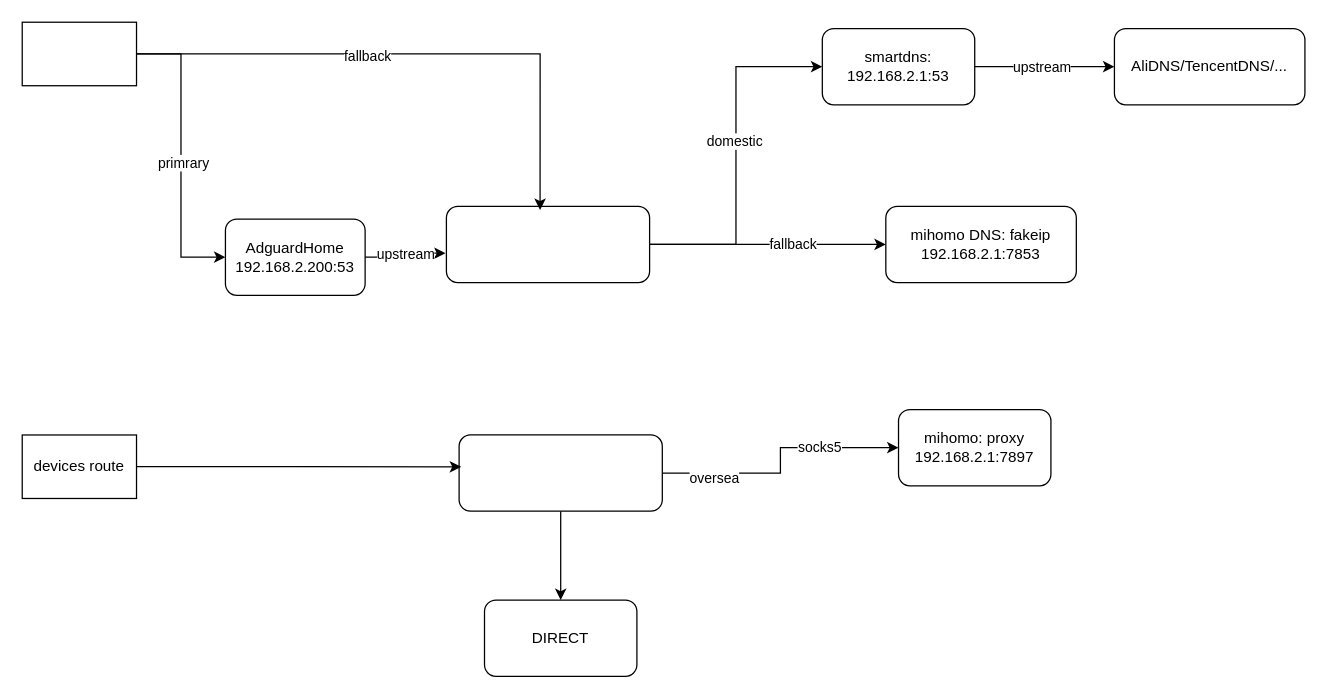
Some shapes in this 1327 by 699 pixel diagram are drawn without their labels. The shapes that lost their labels are listed below. From the top down, each one's box as (x1, y1, x2, y2) in pixels, then its label:
(21, 21, 137, 86): devices DNS
(445, 205, 650, 283): dae hijack DNS bind: br-lan,wan,WireGuard
(458, 434, 662, 511): dae split traffic
